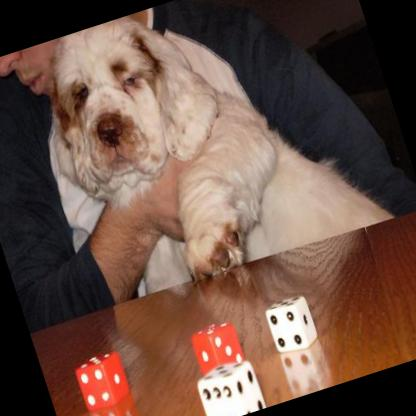clumber: (15, 0, 396, 321)
